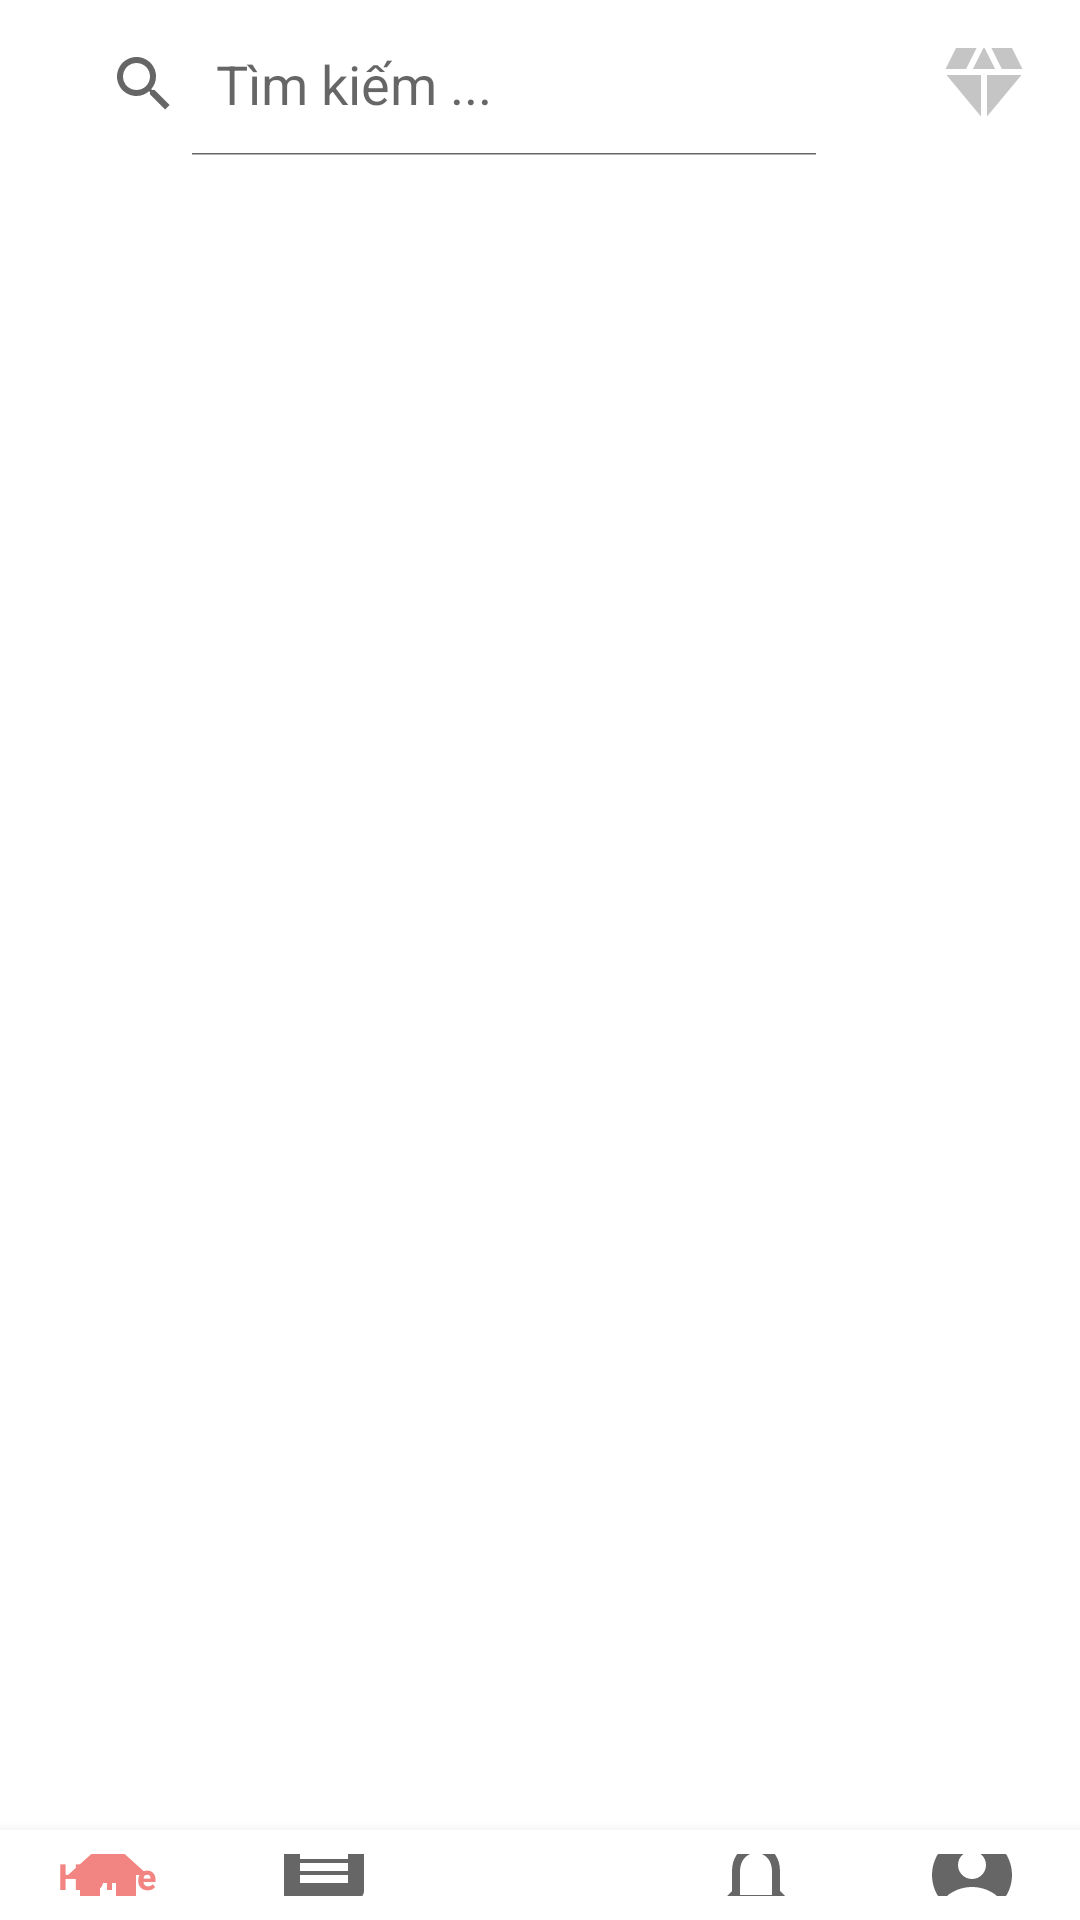

Point at icon controls on the screen. Image size 1080px×1920px, points as (x,y).
diamond: (984,82)
